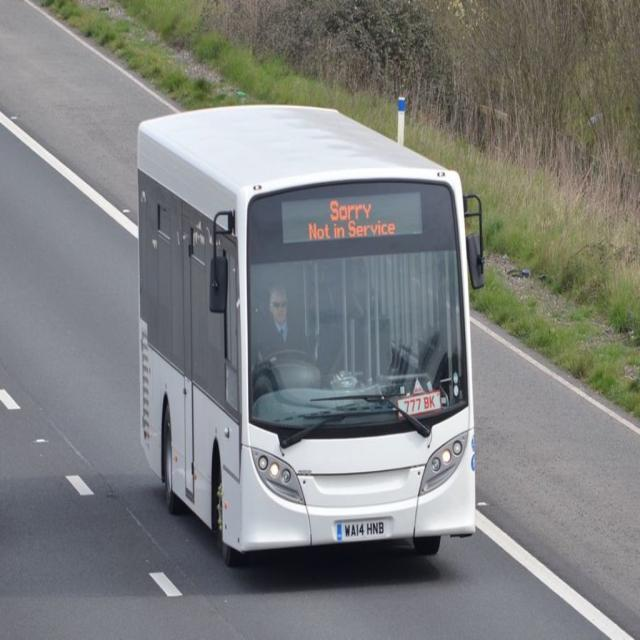Buses: (133, 93, 486, 571)
